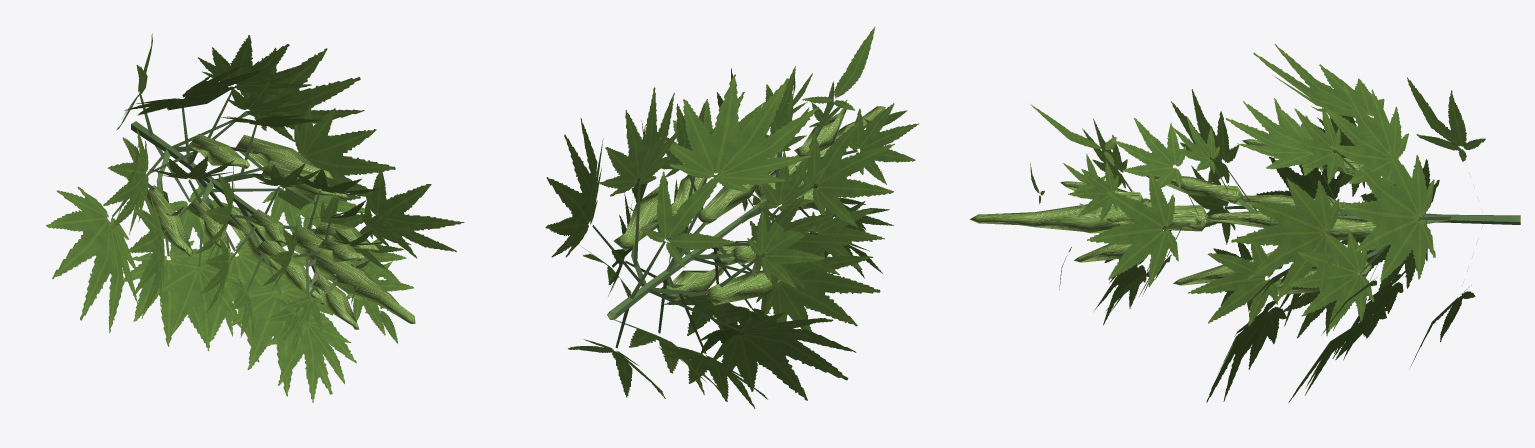
Rendered from p_haze_flowering_c0_cards.obj.
3 renders of one model, left to right at view 1: azimuth 30°, elevation 25°; view 2: azimuth 150°, elevation 25°; view 3: azimuth 270°, elevation 25°, orthographic.
Size of the model in its own units: 1.63 by 1.5 by 2.03.
Materials: 1 (1 with a texture image).
